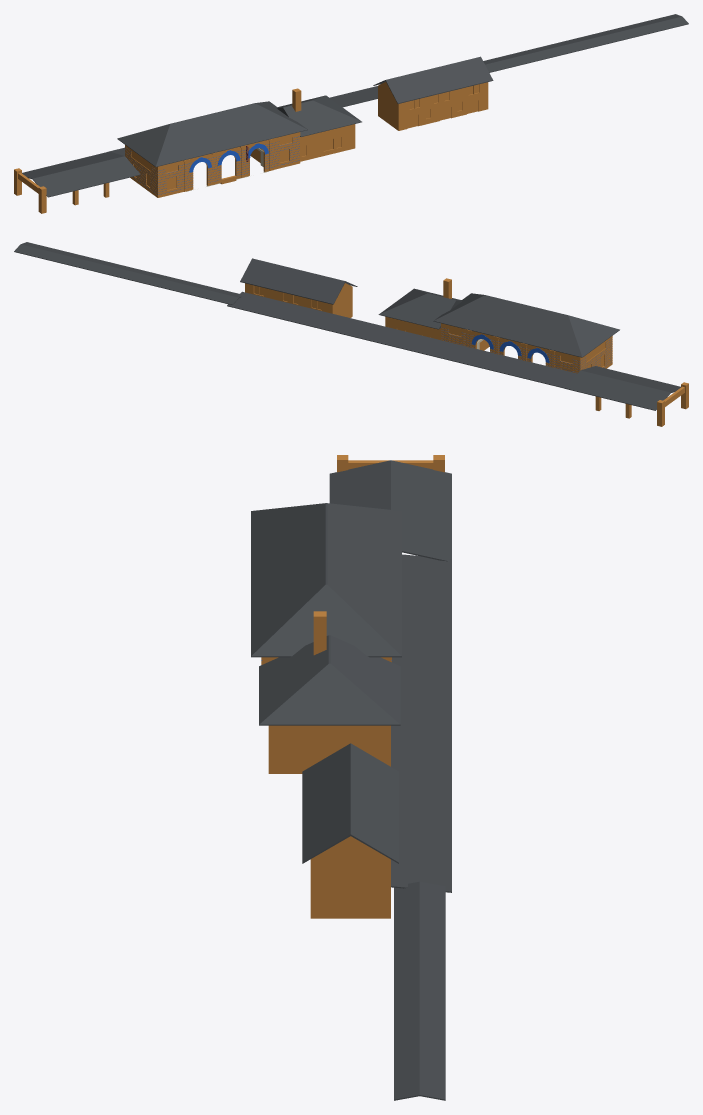
File: Madison_West_Station_HO.glb
3 views of the same model, one above another, from view 1: azimuth 30°, elevation 25°; view 2: azimuth 150°, elevation 25°; view 3: azimuth 270°, elevation 25° (orthographic). The views are drawn at different scales.
Parts seen in each view (by area): view 1: slate, brick, mortar; view 2: slate, brick, mortar; view 3: slate, brick.
Boxes of the visible parts, x1,y1,x2,y2 form: slate: [22, 14, 688, 197]; brick: [14, 82, 488, 213]; mortar: [125, 136, 299, 194]; slate: [14, 242, 680, 410]; brick: [245, 278, 688, 426]; mortar: [441, 327, 611, 372]; slate: [251, 460, 451, 1100]; brick: [261, 455, 444, 918].
Bounding box in the file's own units: 1.63 × 0.154 × 0.2187.
